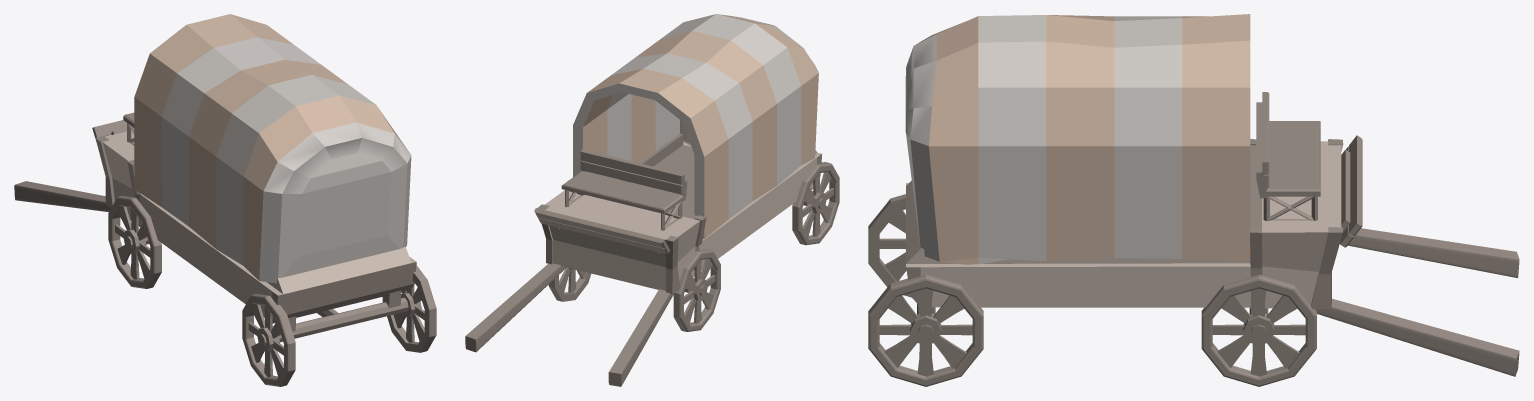
The model's file is koets.fbx.
The picture shows the model from 3 angles, left to right: view 1: azimuth 30°, elevation 25°; view 2: azimuth 150°, elevation 25°; view 3: azimuth 270°, elevation 25°; orthographic projection. The views are drawn at different scales.
Parts seen in each view (by area): view 1: Kar; view 2: Kar; view 3: Kar.
Boxes of the visible parts, x1,y1,x2,y2 form: Kar: (14,14,436,386); Kar: (465,14,839,386); Kar: (868,14,1519,386).
Bounding box in the file's own units: 1.46 × 2 × 3.75.
